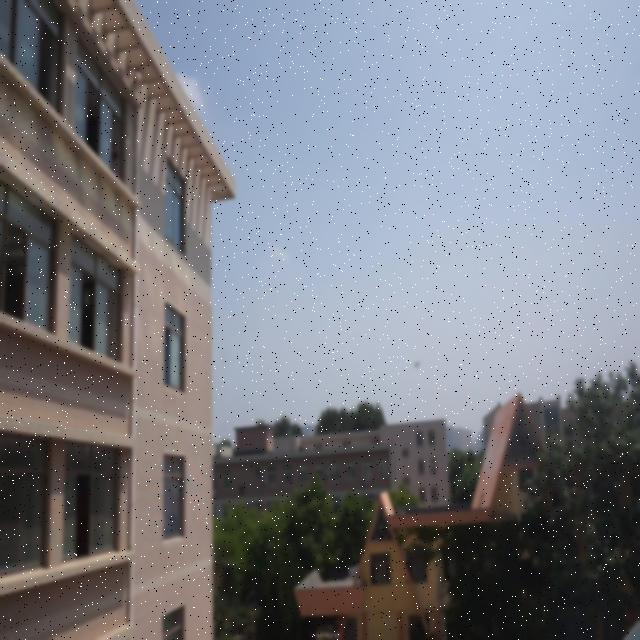UAV: (414, 360, 422, 370)
